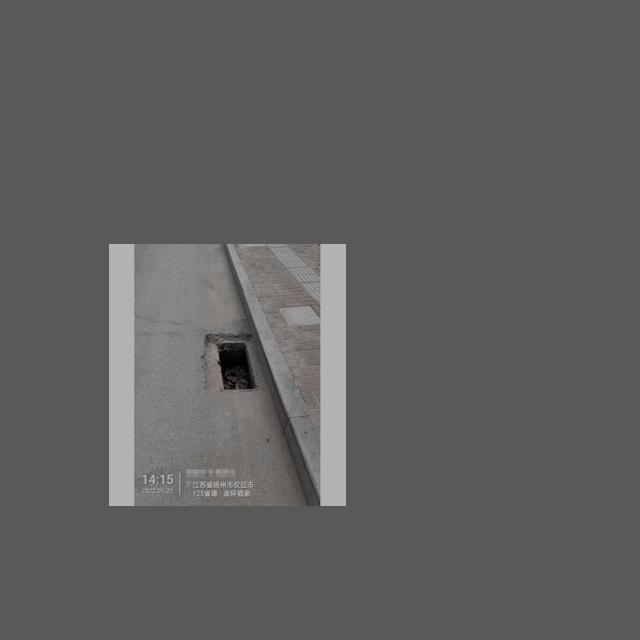lose: (191, 325, 277, 404)
